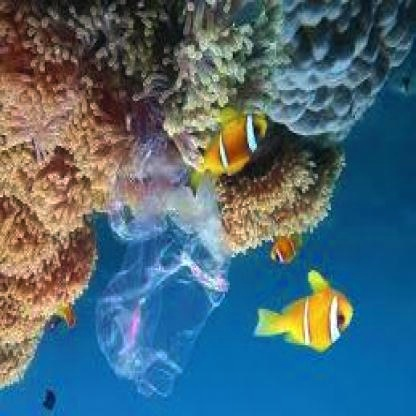pbag: (93, 140, 231, 404)
